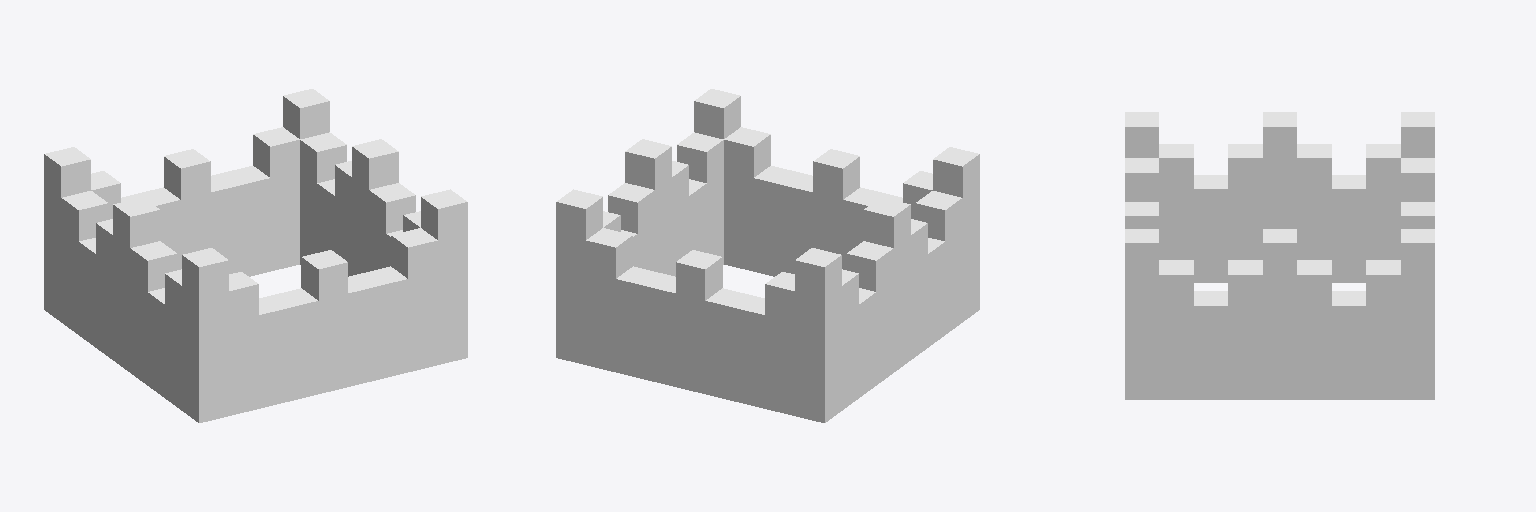
File: Crown.obj
3 views of the same model, side by side, from view 1: azimuth 30°, elevation 25°; view 2: azimuth 150°, elevation 25°; view 3: azimuth 270°, elevation 25° (orthographic).
Parts seen in each view (by area): view 1: object 1; view 2: object 1; view 3: object 1.
Part boxes in pixels (left/top/right/bottom): object 1: left=44, top=89, right=467, bottom=422; object 1: left=556, top=89, right=979, bottom=422; object 1: left=1125, top=112, right=1434, bottom=399.
Size of the model in its own units: 0.9 by 0.5 by 0.9.